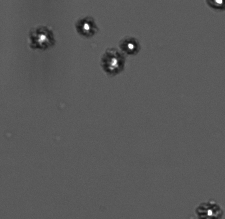Living Cell: (102, 49, 125, 75), (30, 26, 54, 50), (76, 17, 98, 37), (198, 201, 222, 216), (122, 37, 140, 56), (207, 1, 224, 10)
